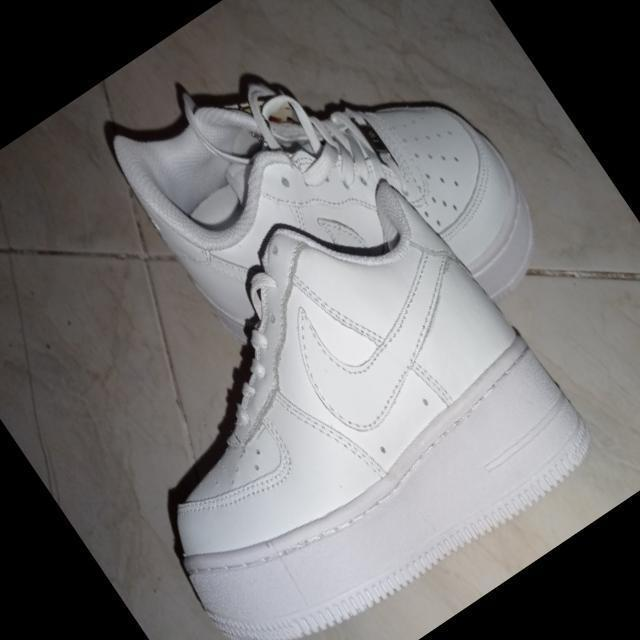nike fake air force: (52, 148, 614, 640), (78, 0, 567, 442)
